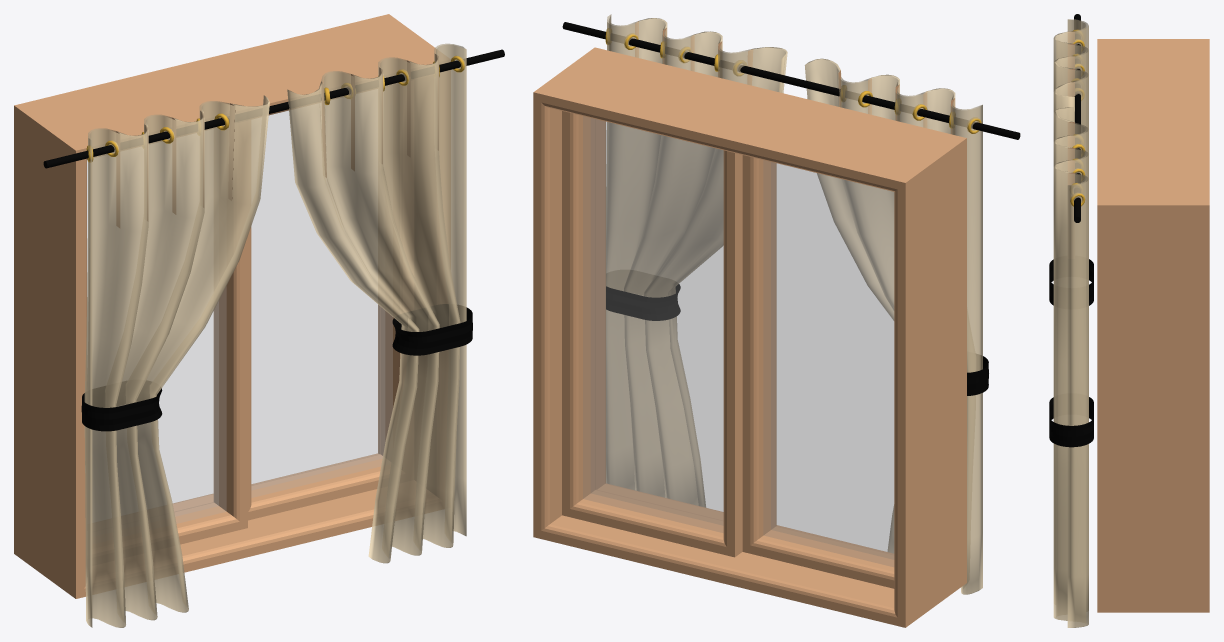
File: 3DModel_Window.glb
3 views of the same model, side by side, from view 1: azimuth 30°, elevation 25°; view 2: azimuth 150°, elevation 25°; view 3: azimuth 270°, elevation 25° (orthographic). The views are drawn at different scales.
Parts seen in each view (by area): view 1: Window.001; view 2: Window.001; view 3: Window.001.
Boxes of the visible parts, <box> form: Window.001: <box>14,14,504,627</box>; Window.001: <box>533,14,1020,627</box>; Window.001: <box>1049,14,1209,627</box>.
Bounding box in the file's own units: 1.71 × 1.74 × 0.5705.
